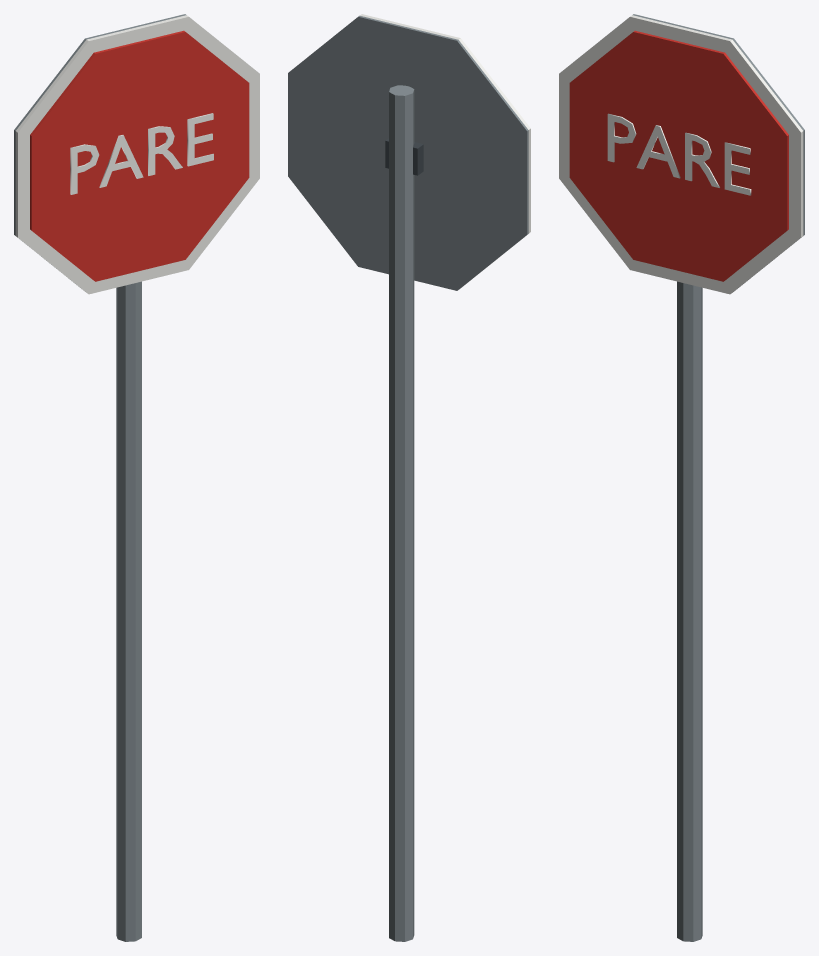
Rendered from StopSign.fbx.
The picture shows the model from 3 angles, left to right: view 1: azimuth 30°, elevation 25°; view 2: azimuth 150°, elevation 25°; view 3: azimuth 330°, elevation 25°; orthographic projection.
Parts seen in each view (by area): view 1: StopSign; view 2: StopSign; view 3: StopSign.
Boxes of the visible parts, x1=… form: StopSign: x1=14, y1=14, x2=259, y2=941; StopSign: x1=288, y1=14, x2=530, y2=941; StopSign: x1=559, y1=14, x2=804, y2=941.
Bounding box in the file's own units: 0.7391 × 2.67 × 0.1.
